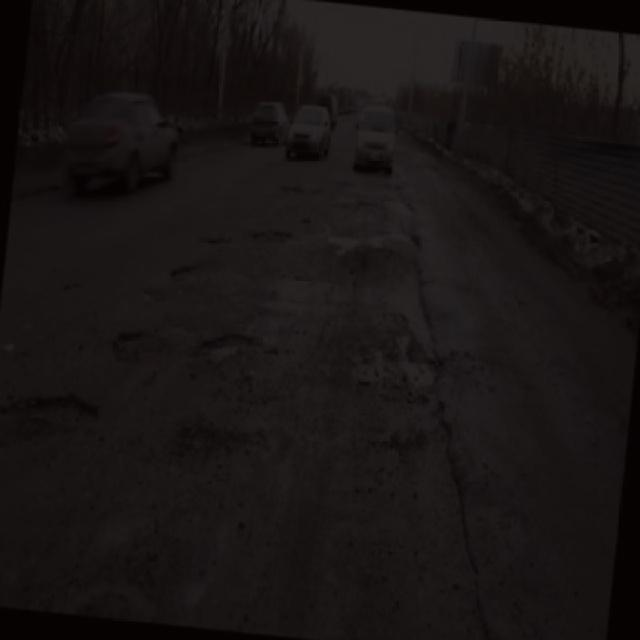Pothole: (329, 193, 442, 349), (345, 323, 449, 406), (0, 384, 103, 462), (164, 415, 274, 462), (197, 328, 278, 369), (91, 321, 162, 365), (250, 224, 298, 253), (188, 230, 239, 252), (169, 260, 206, 290)
